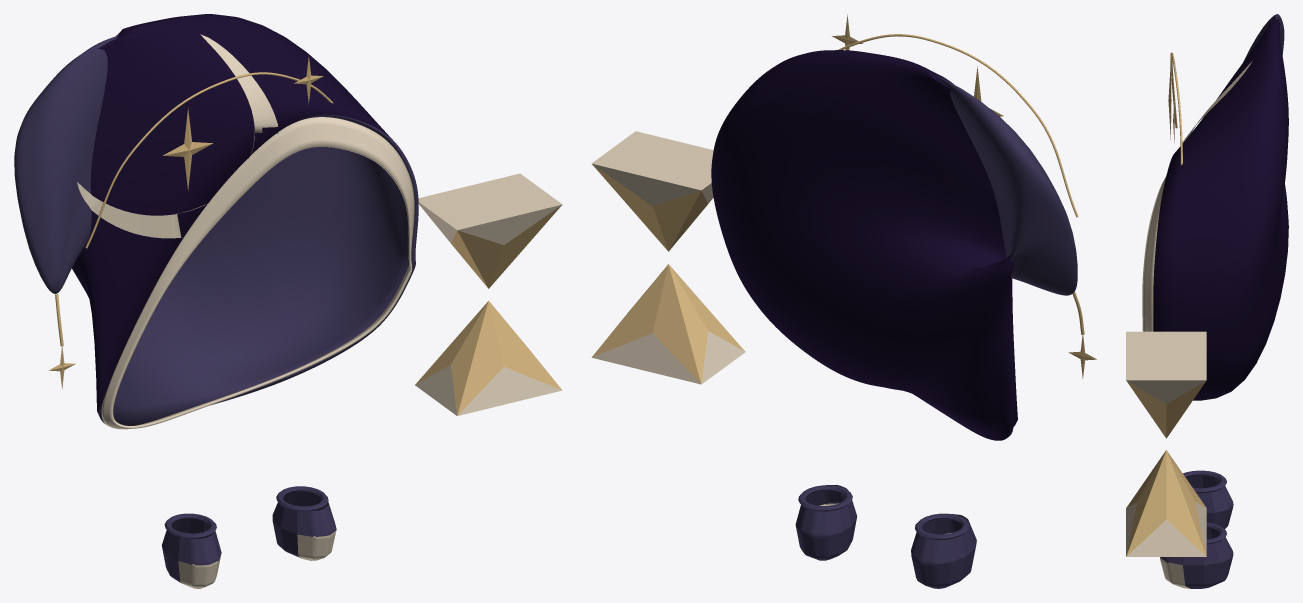
File: Starweaver_Models03.fbx
3 views of the same model, side by side, from view 1: azimuth 30°, elevation 25°; view 2: azimuth 150°, elevation 25°; view 3: azimuth 270°, elevation 25° (orthographic). The views are drawn at different scales.
Parts seen in each view (by area): view 1: HoodShell, HoodIvoryRim, Focus_Lower, Focus_Upper, Crescent cloth inlay, Boot_Right, Boot_Left, Gold constellation embroidery, Large star applique; view 2: HoodShell, Focus_Lower, Focus_Upper, Boot_Left, Boot_Right, Gold constellation embroidery, Boot_Right cuff, Boot_Left cuff; view 3: HoodShell, Focus_Upper, Focus_Lower, Boot_Right, HoodIvoryRim, Boot_Left, Gold constellation embroidery, Boot_Left cuff, Crescent cloth inlay, Boot_Right cuff.
Part boxes in pixels (left/top/right/bottom): HoodShell: left=14, top=14, right=418, bottom=425; HoodIvoryRim: left=101, top=117, right=414, bottom=429; Focus_Lower: left=415, top=301, right=562, bottom=415; Focus_Upper: left=418, top=173, right=562, bottom=288; Crescent cloth inlay: left=77, top=34, right=278, bottom=238; Boot_Right: left=272, top=491, right=336, bottom=560; Boot_Left: left=161, top=518, right=221, bottom=588; Gold constellation embroidery: left=85, top=72, right=333, bottom=248; Large star applique: left=163, top=107, right=212, bottom=191; HoodShell: left=711, top=50, right=1077, bottom=440; Focus_Lower: left=591, top=264, right=745, bottom=384; Focus_Upper: left=591, top=131, right=713, bottom=251; Boot_Left: left=911, top=514, right=976, bottom=588; Boot_Right: left=795, top=485, right=857, bottom=560; Gold constellation embroidery: left=838, top=34, right=1078, bottom=217; Boot_Right cuff: left=798, top=485, right=852, bottom=511; Boot_Left cuff: left=915, top=513, right=969, bottom=539; HoodShell: left=1153, top=14, right=1288, bottom=400; Focus_Upper: left=1126, top=331, right=1206, bottom=438; Focus_Lower: left=1126, top=450, right=1206, bottom=556; Boot_Right: left=1160, top=527, right=1233, bottom=588; HoodIvoryRim: left=1142, top=176, right=1166, bottom=331; Boot_Left: left=1186, top=475, right=1233, bottom=528; Gold constellation embroidery: left=1170, top=52, right=1182, bottom=164; Boot_Left cuff: left=1183, top=470, right=1226, bottom=493; Crescent cloth inlay: left=1182, top=60, right=1252, bottom=142; Boot_Right cuff: left=1206, top=522, right=1226, bottom=544.
Bounding box in the file's own units: 262 × 277 × 81.13.
